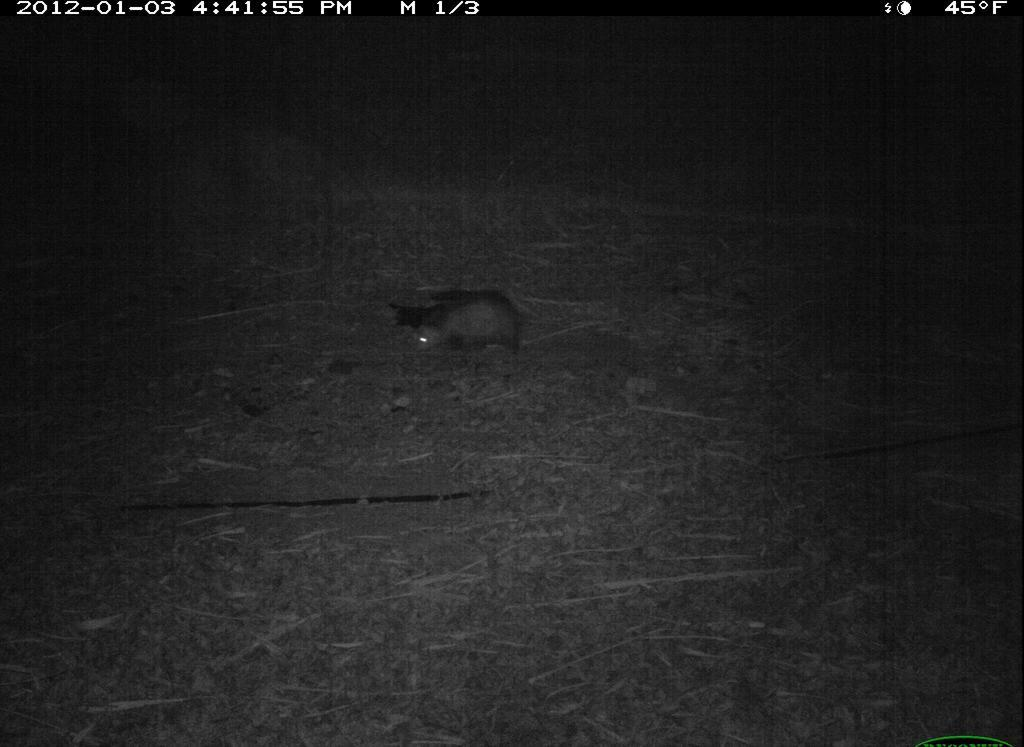opossum: (396, 281, 538, 369)
